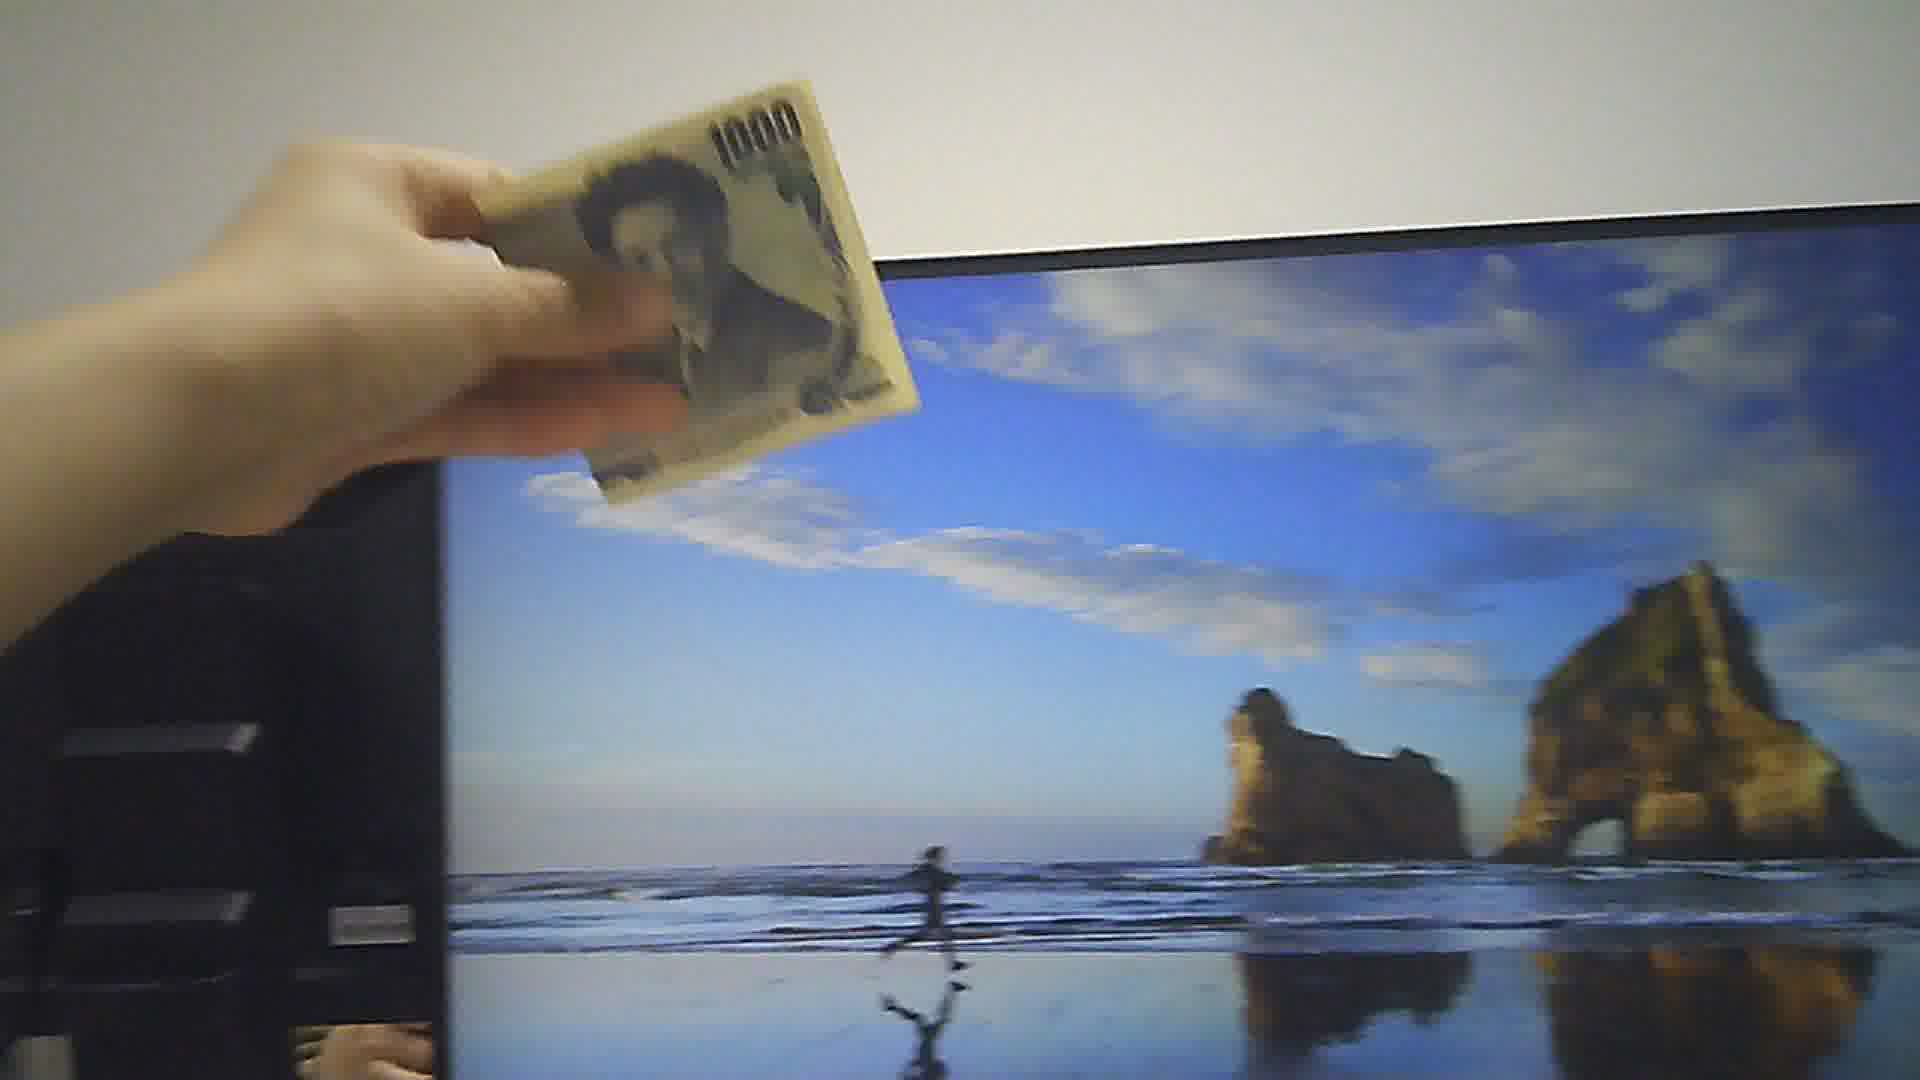1,000 Yen: (448, 69, 931, 500)
